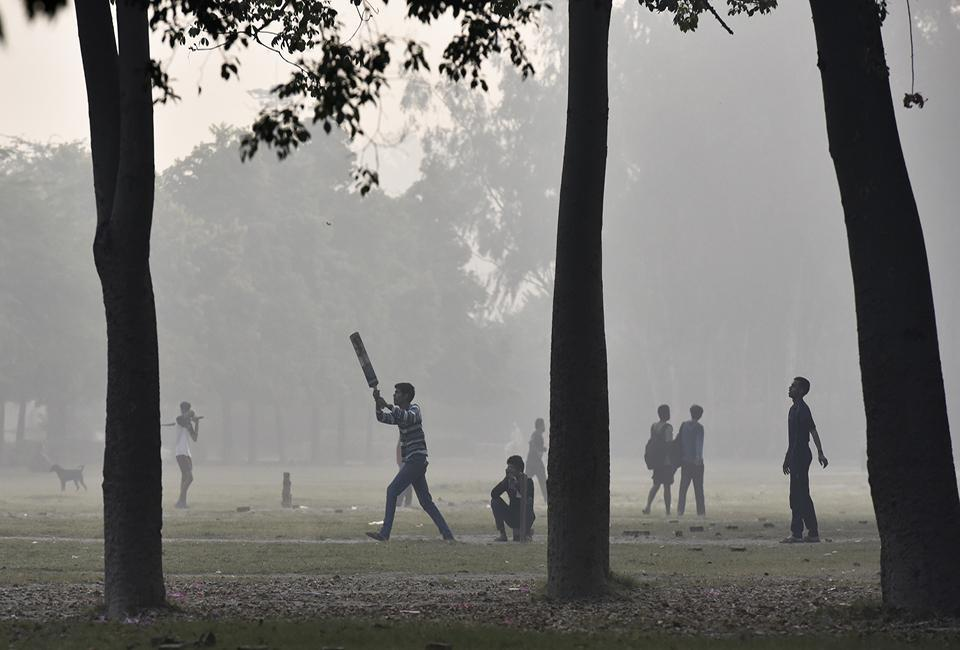person: (364, 381, 459, 543), (780, 376, 828, 542), (488, 454, 536, 544), (669, 403, 704, 518), (642, 402, 677, 516), (524, 418, 559, 505), (172, 401, 199, 512)
